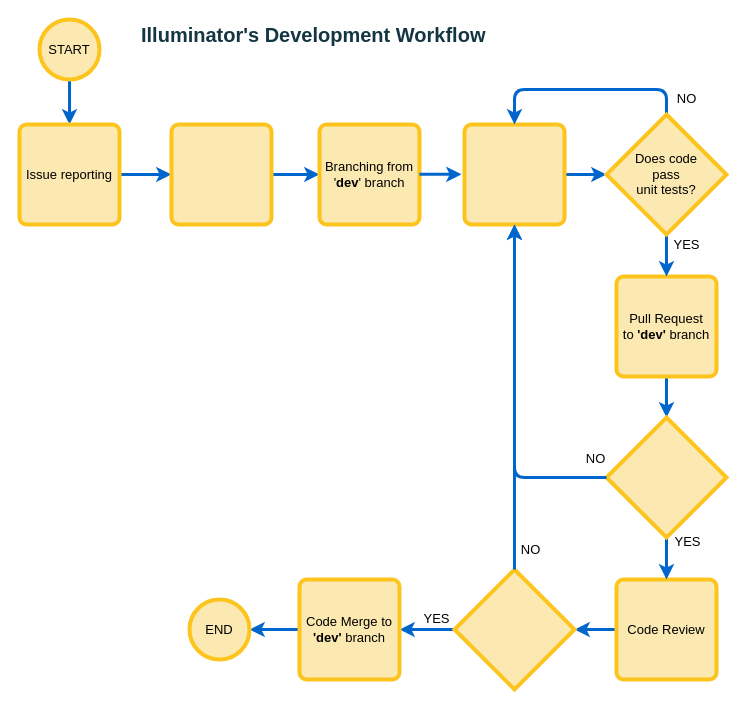
Image size: 745x708. Some labels were removed from this diagram. Each missing label, with the box of its shape:
Development (feature, bug fix unit test or documentation): (462, 122, 566, 226)
Did reviewers approve code?: (452, 567, 576, 691)
Does code pass the CI tests?: (604, 415, 728, 539)
Forking repository: (169, 122, 273, 226)
